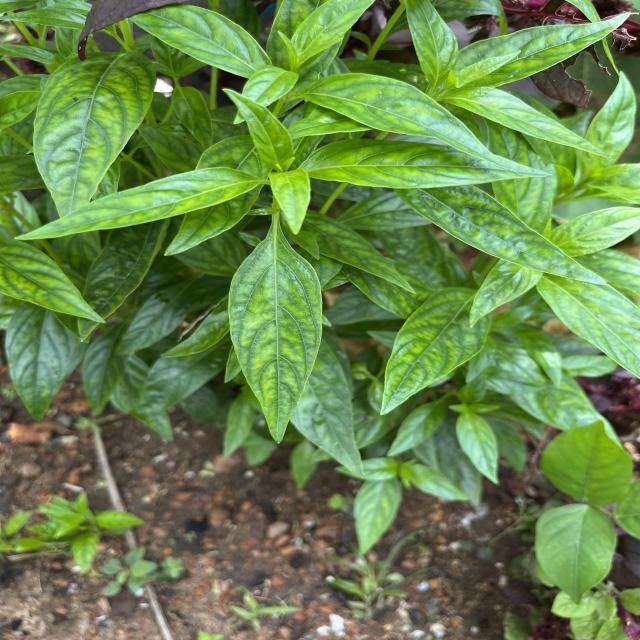Andrographis paniculata: (394, 184, 610, 288), (300, 71, 518, 173), (225, 236, 328, 449), (31, 50, 158, 218), (13, 165, 264, 242), (379, 285, 491, 418), (454, 12, 634, 88), (304, 138, 554, 190), (445, 85, 616, 161), (292, 208, 417, 294), (138, 6, 275, 79), (220, 86, 296, 168)
